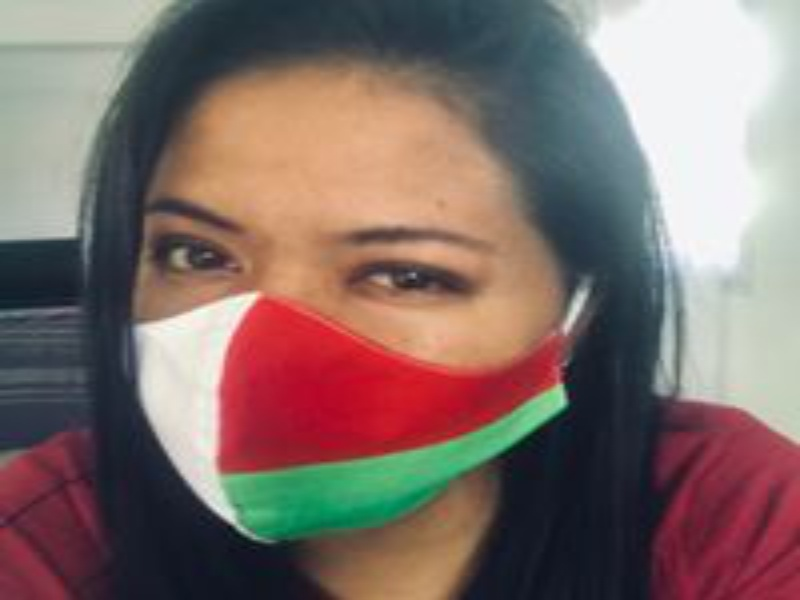ManaoArotava: (66, 33, 612, 558)
